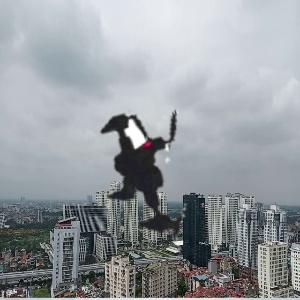drone: (52, 68, 260, 276)
